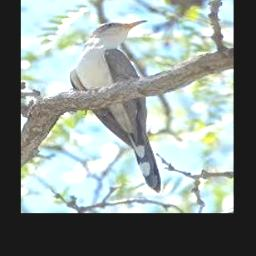Cuckoo: (70, 20, 162, 193)
